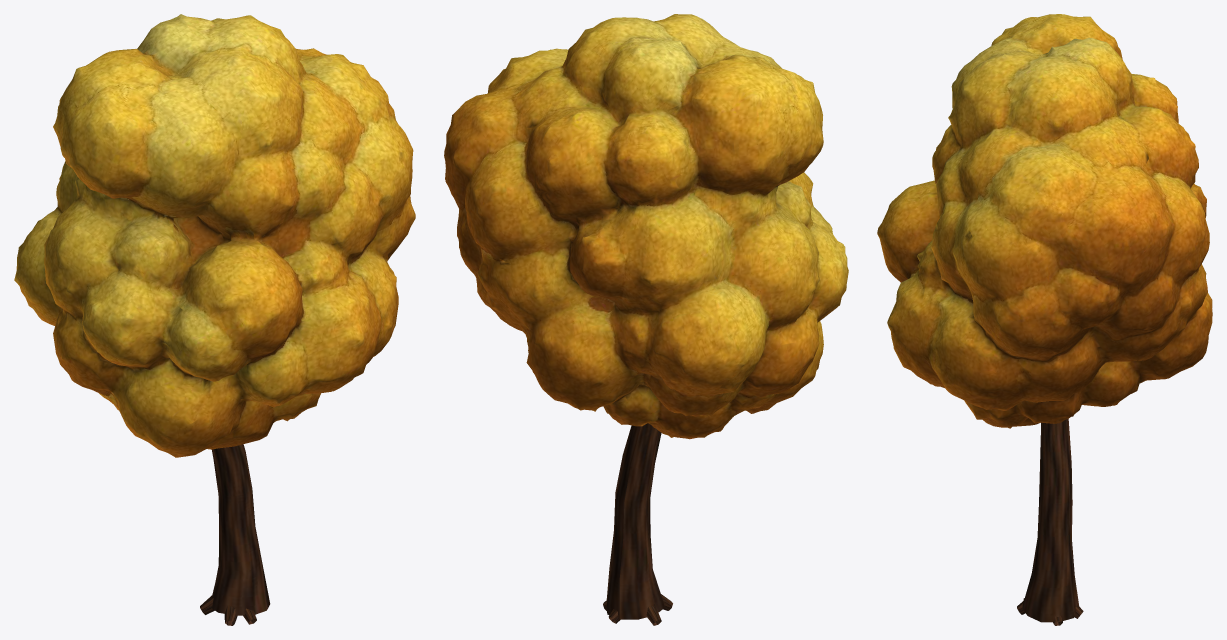
Rendered from tree_maple_amber.glb.
3 views of the same model, side by side, from view 1: azimuth 30°, elevation 25°; view 2: azimuth 150°, elevation 25°; view 3: azimuth 270°, elevation 25° (orthographic). The views are drawn at different scales.
Visible parts, largest first — view 1: tree_maple_amber_crown0, trunk; view 2: tree_maple_amber_crown0, trunk; view 3: tree_maple_amber_crown0, trunk.
Part boxes in pixels (box(x1,y1,x2,y2)): tree_maple_amber_crown0: box(14, 14, 415, 457); trunk: box(200, 444, 270, 625); tree_maple_amber_crown0: box(444, 14, 848, 439); trunk: box(603, 423, 672, 625); tree_maple_amber_crown0: box(877, 14, 1212, 428); trunk: box(1017, 418, 1083, 625).
Size of the model in its own units: 2.23 by 3.68 by 2.02.
2 materials, 2 textured.
